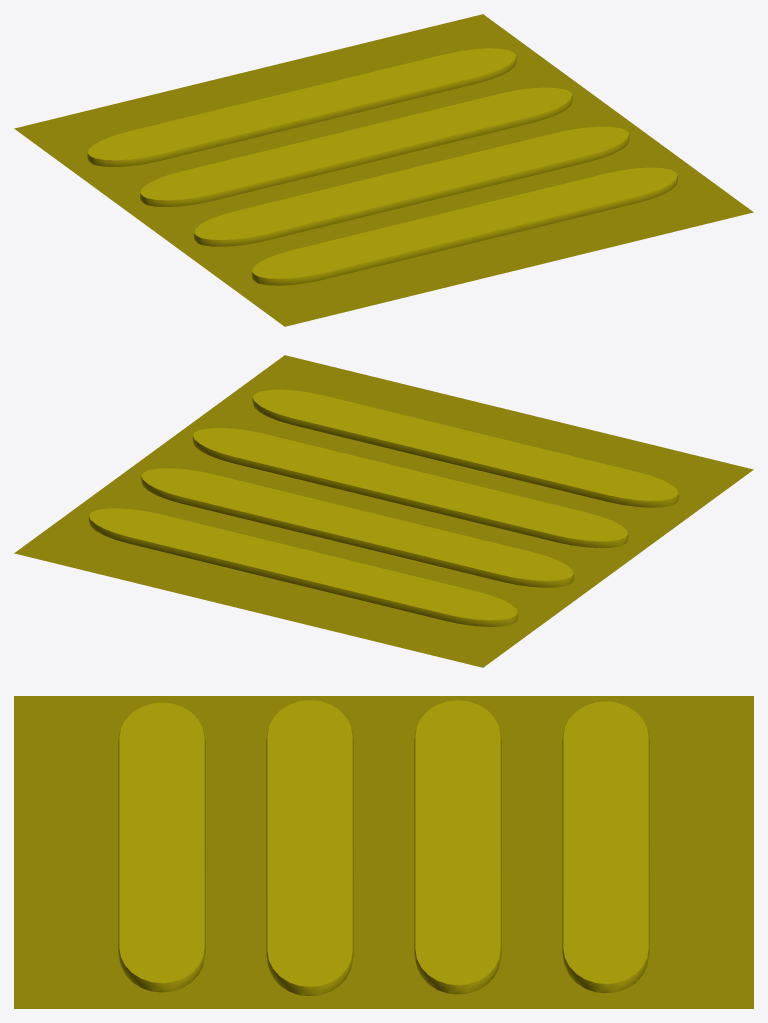
File: PisoDesce.FBX
The picture shows the model from 3 angles, top to bottom: view 1: azimuth 30°, elevation 25°; view 2: azimuth 150°, elevation 25°; view 3: azimuth 270°, elevation 25°; orthographic projection. The views are drawn at different scales.
Parts seen in each view (by area): view 1: Plane001, Capsule003, Capsule002, Capsule001, Capsule004; view 2: Plane001, Capsule003, Capsule002, Capsule001, Capsule004; view 3: Plane001, Capsule003, Capsule002, Capsule001, Capsule004.
Boxes of the visible parts, <box> form: Plane001: <box>14,14,753,326</box>; Capsule003: <box>193,126,629,246</box>; Capsule002: <box>140,87,572,206</box>; Capsule001: <box>87,48,516,166</box>; Capsule004: <box>251,167,677,285</box>; Plane001: <box>14,355,753,667</box>; Capsule003: <box>192,428,628,547</box>; Capsule002: <box>141,468,573,587</box>; Capsule001: <box>88,508,517,626</box>; Capsule004: <box>252,389,678,507</box>; Plane001: <box>14,696,753,1008</box>; Capsule003: <box>266,700,353,995</box>; Capsule002: <box>414,700,501,994</box>; Capsule001: <box>562,701,649,992</box>; Capsule004: <box>118,702,205,992</box>.
Bounding box in the file's own units: 2000 × 27.98 × 2000.
